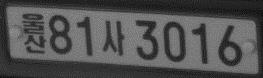0: (162, 20, 186, 63)
1: (190, 21, 209, 65), (75, 14, 94, 57)
3: (133, 18, 158, 61)
6: (217, 23, 243, 66)
8: (47, 13, 73, 54)
사: (101, 19, 126, 56)
울산_V: (20, 12, 48, 54)
